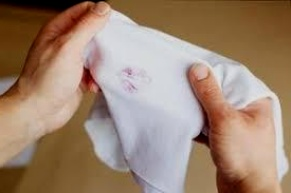lipstick: (120, 63, 154, 94)
